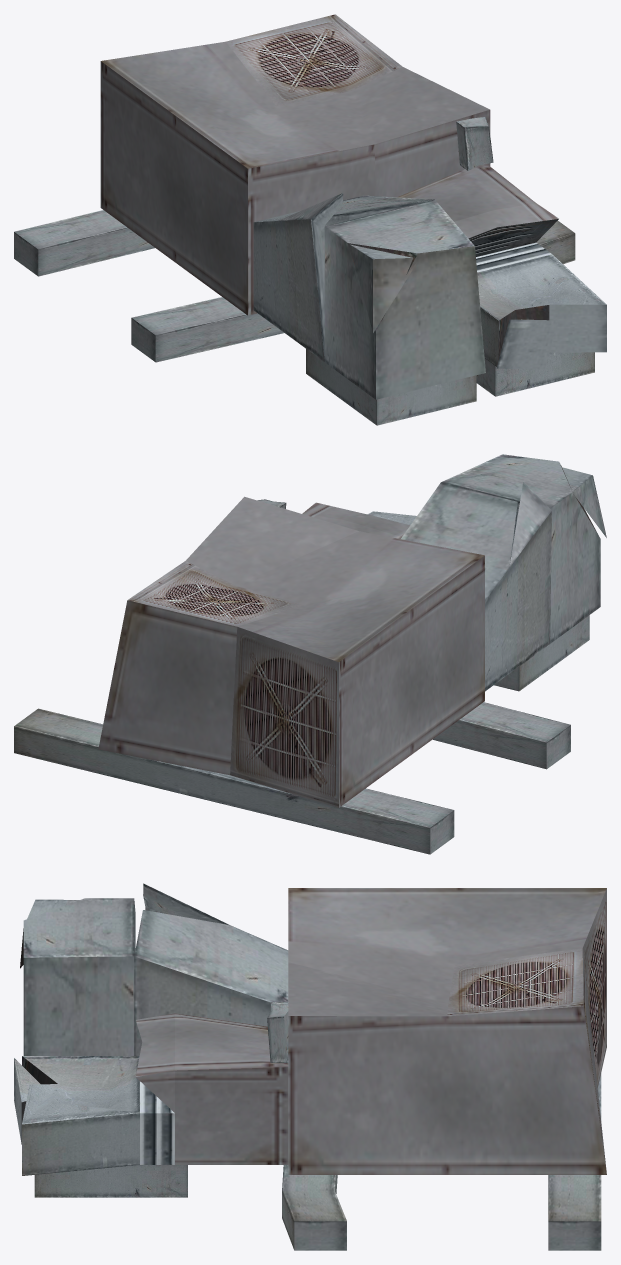
Rendered from Air_vent_machine.fbx.
The picture shows the model from 3 angles, top to bottom: view 1: azimuth 30°, elevation 25°; view 2: azimuth 150°, elevation 25°; view 3: azimuth 270°, elevation 25°; orthographic projection. The views are drawn at different scales.
Visible parts, largest first — view 1: Air_vent_machine; view 2: Air_vent_machine; view 3: Air_vent_machine.
Part boxes in pixels (left/top/right/bottom): Air_vent_machine: left=14, top=14, right=606, bottom=425; Air_vent_machine: left=14, top=454, right=606, bottom=854; Air_vent_machine: left=14, top=883, right=606, bottom=1250.
Bounding box in the file's own units: 282 × 124 × 319.
